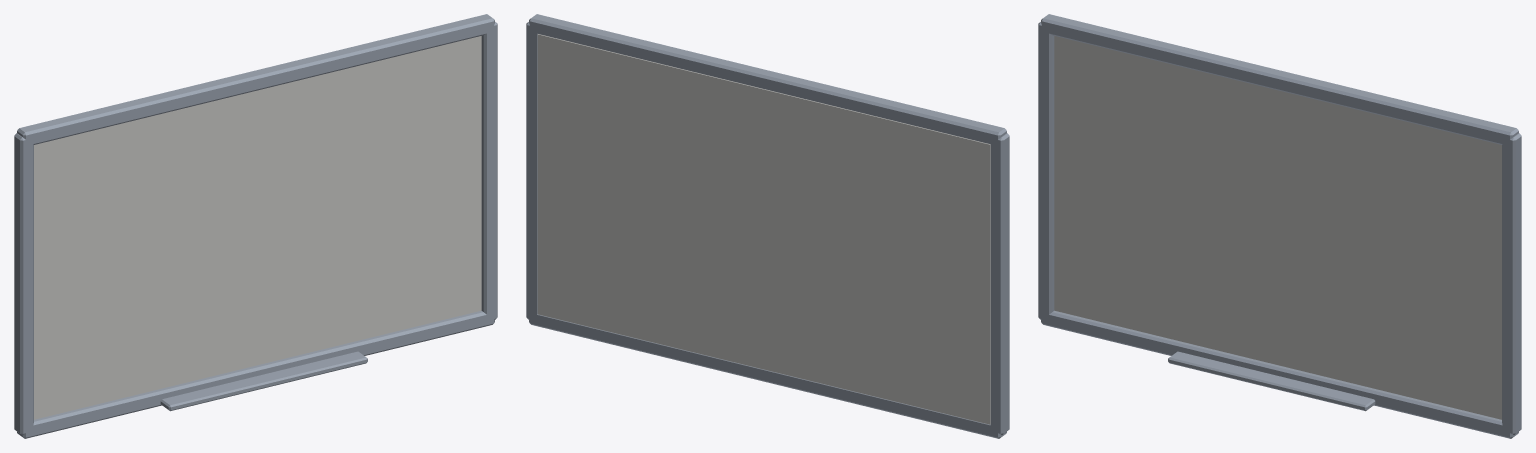
Rendered from whiteboard.glb.
3 renders of one model, left to right at view 1: azimuth 30°, elevation 25°; view 2: azimuth 150°, elevation 25°; view 3: azimuth 330°, elevation 25°, orthographic.
Parts seen in each view (by area): view 1: Whiteboard; view 2: Whiteboard; view 3: Whiteboard.
Boxes of the visible parts, x1,y1,x2,y2 form: Whiteboard: (14, 14, 497, 438); Whiteboard: (526, 14, 1009, 438); Whiteboard: (1038, 14, 1521, 438).
Size of the model in its own units: 3.36 by 2.06 by 0.21.
